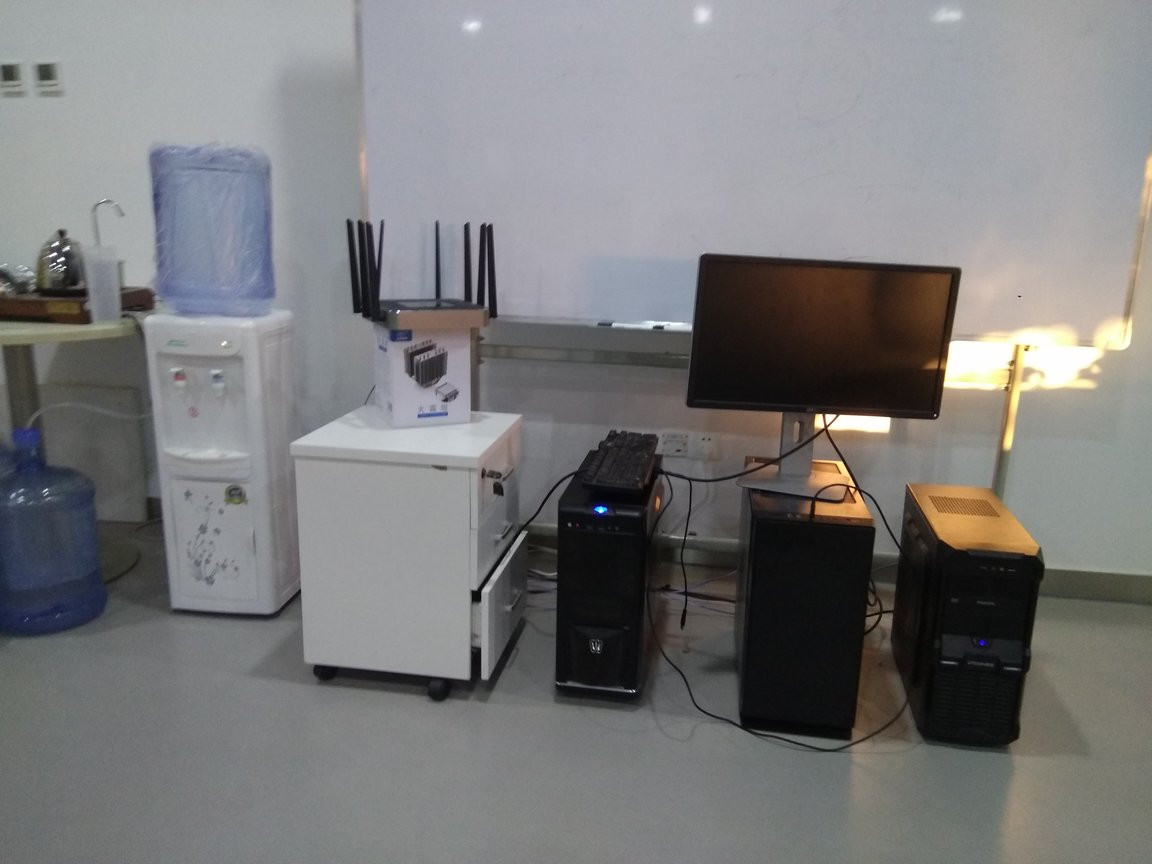computer: (739, 454, 869, 755), (900, 479, 1034, 760), (559, 445, 666, 712)
drawer chest: (295, 406, 530, 705)
monitor: (686, 246, 955, 500)
scuttlebutt: (143, 138, 279, 315), (1, 432, 112, 645)
water dispenser: (141, 305, 288, 623)
